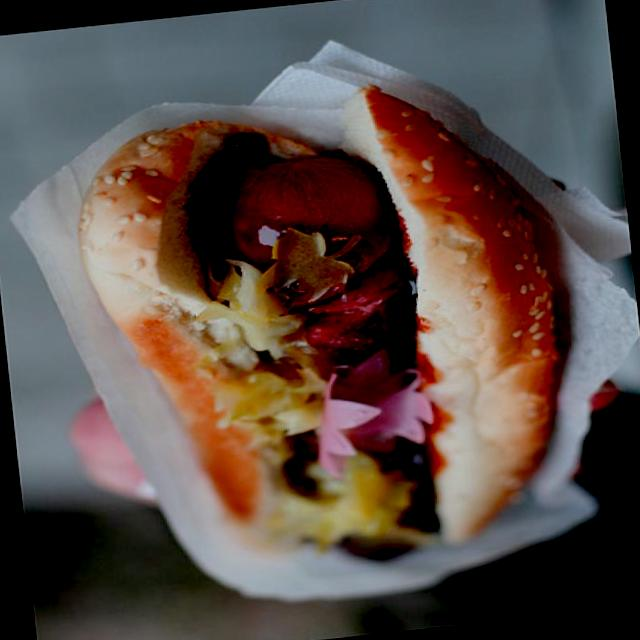Hot Dog: (87, 95, 562, 570)
